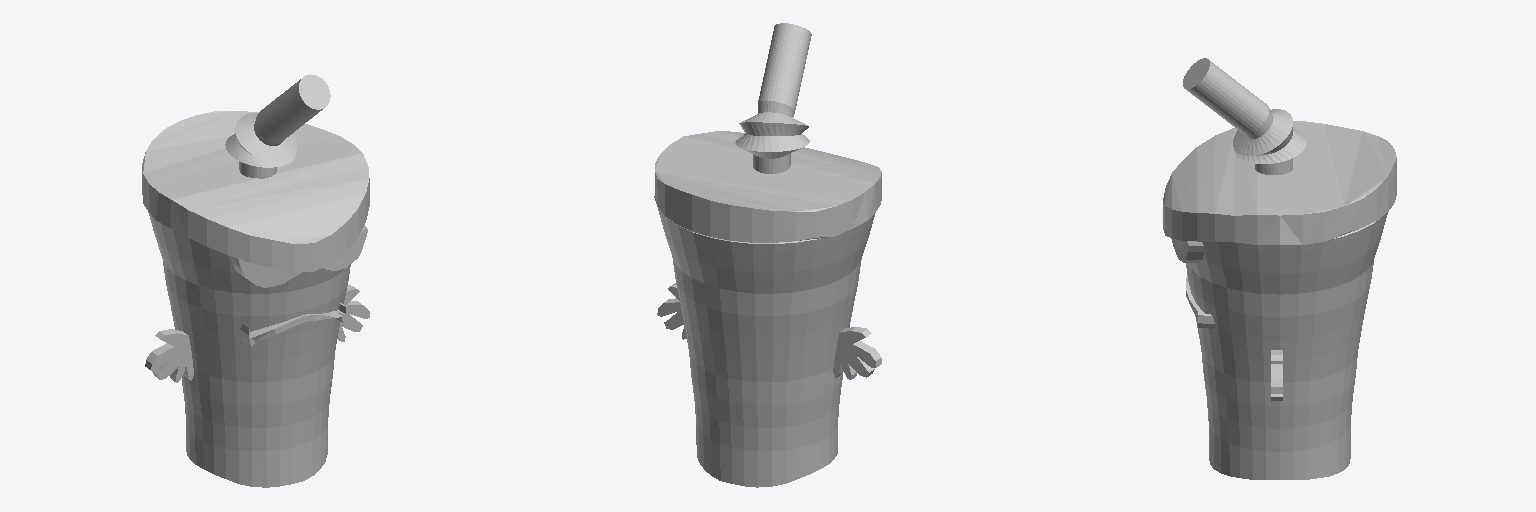
Rendered from master shake.obj.
3 views of the same model, side by side, from view 1: azimuth 30°, elevation 25°; view 2: azimuth 150°, elevation 25°; view 3: azimuth 270°, elevation 25° (orthographic).
Parts seen in each view (by area): view 1: Cylinder, Cylinder.001, Cylinder.002, Plane; view 2: Cylinder, Cylinder.001, Cylinder.002, Plane; view 3: Cylinder, Cylinder.001, Cylinder.002, Plane.
Part boxes in pixels (bbox=[...]): Cylinder: bbox=[148, 212, 350, 487]; Cylinder.001: bbox=[142, 111, 369, 271]; Cylinder.002: bbox=[225, 74, 330, 178]; Plane: bbox=[145, 225, 369, 382]; Cylinder: bbox=[658, 208, 875, 487]; Cylinder.001: bbox=[654, 131, 881, 242]; Cylinder.002: bbox=[735, 23, 811, 173]; Plane: bbox=[657, 283, 881, 379]; Cylinder: bbox=[1186, 213, 1387, 479]; Cylinder.001: bbox=[1163, 121, 1396, 244]; Cylinder.002: bbox=[1183, 58, 1306, 174]; Plane: bbox=[1171, 238, 1282, 400].
Bounding box in the file's own units: 6.31 × 11.18 × 5.84.